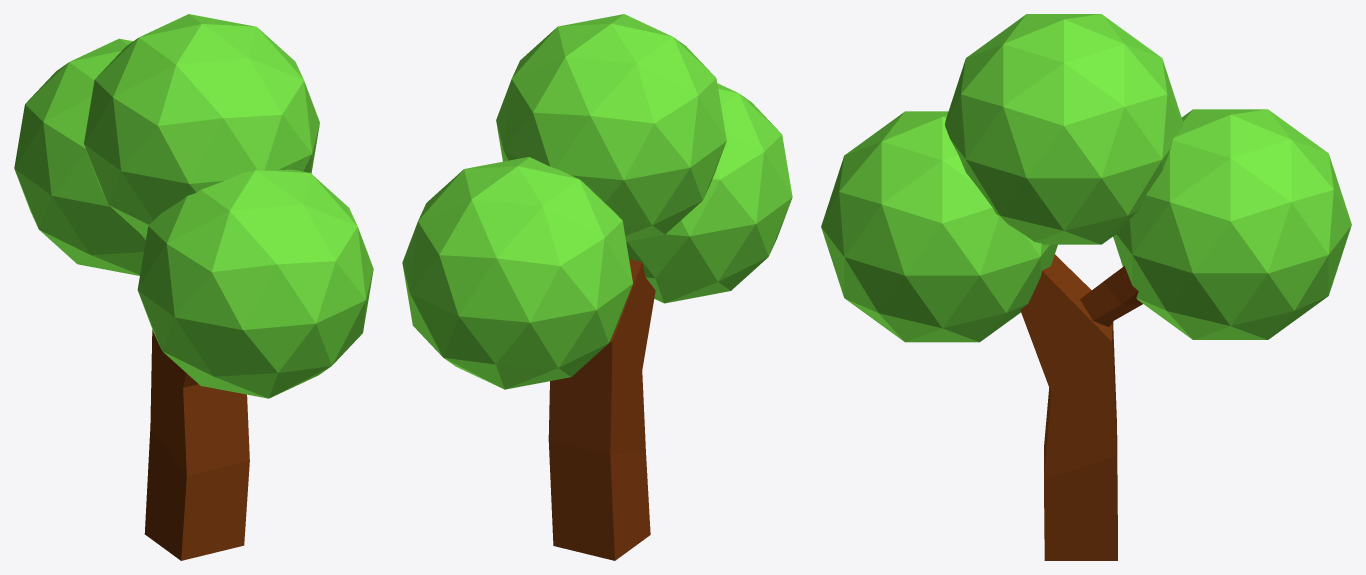
Rendered from repairrealtree.fbx.
The picture shows the model from 3 angles, left to right: view 1: azimuth 30°, elevation 25°; view 2: azimuth 150°, elevation 25°; view 3: azimuth 270°, elevation 25°; orthographic projection. The views are drawn at different scales.
Parts seen in each view (by area): view 1: Cube; view 2: Cube; view 3: Cube.
Part boxes in pixels (x1,y1,x2,y2): Cube: [14, 14, 373, 560]; Cube: [402, 14, 792, 560]; Cube: [821, 14, 1351, 560].
Size of the model in its own units: 694 by 1584 by 1450.
